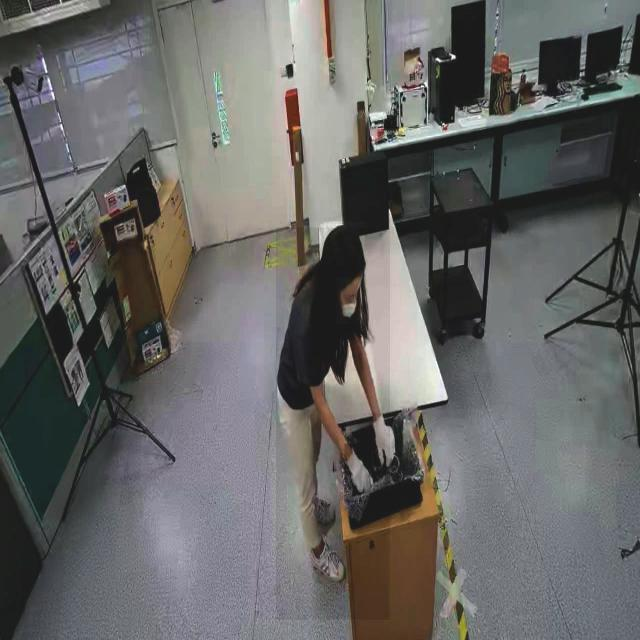face_mask: (336, 278, 362, 324)
hand_glove: (368, 413, 394, 478), (344, 444, 372, 503)
head_nohelmet: (323, 221, 365, 267)
person: (276, 228, 390, 620)
shoes: (310, 538, 348, 586), (307, 491, 337, 526)
